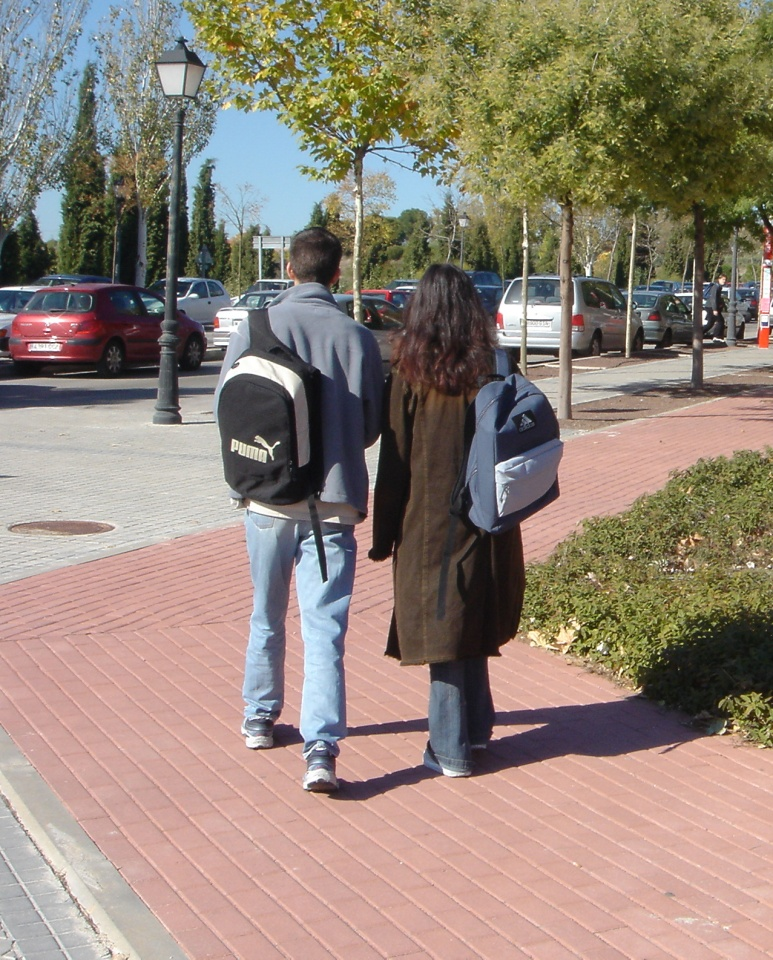person: (229, 221, 381, 793), (385, 262, 535, 776)
